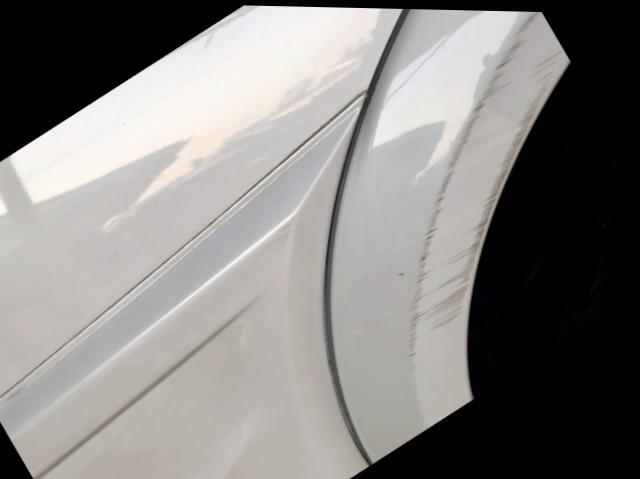scratch: (410, 9, 567, 360)
